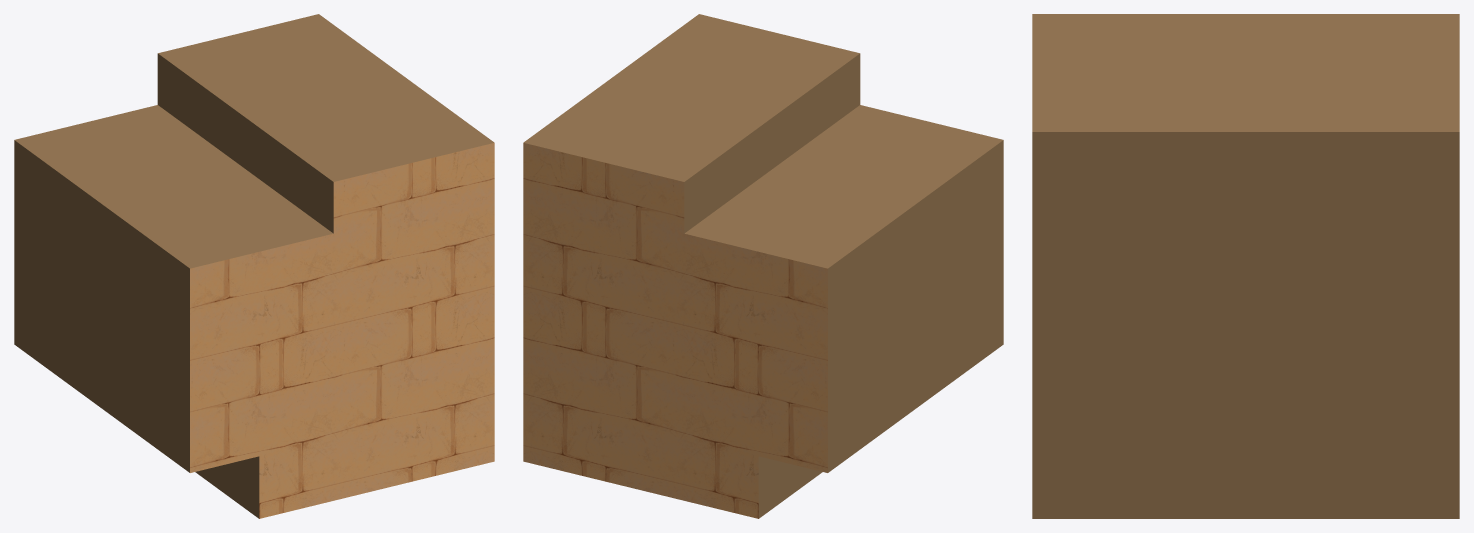
Rendered from Crumbled_Wall_1x1V1.fbx.
The picture shows the model from 3 angles, left to right: view 1: azimuth 30°, elevation 25°; view 2: azimuth 150°, elevation 25°; view 3: azimuth 270°, elevation 25°; orthographic projection. The views are drawn at different scales.
Parts seen in each view (by area): view 1: Crumbled_Wall_1x1V1; view 2: Crumbled_Wall_1x1V1; view 3: Crumbled_Wall_1x1V1.
Boxes of the visible parts, x1,y1,x2,y2 form: Crumbled_Wall_1x1V1: [14, 14, 494, 518]; Crumbled_Wall_1x1V1: [523, 14, 1003, 518]; Crumbled_Wall_1x1V1: [1032, 14, 1459, 518].
Size of the model in its own units: 100 by 100 by 100.
